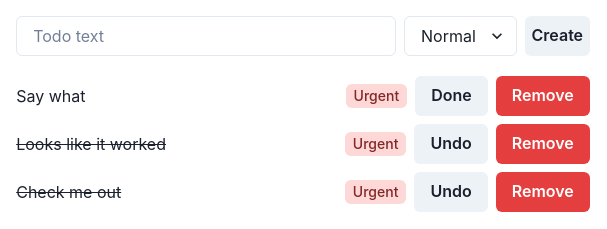
Test: Index page › should delete a todo when click on Remove
The width and height of the screenshot is (607, 229).
Click the button "Remove" in the row of "Say what".
click(543, 96)  # box [496, 76, 590, 116]
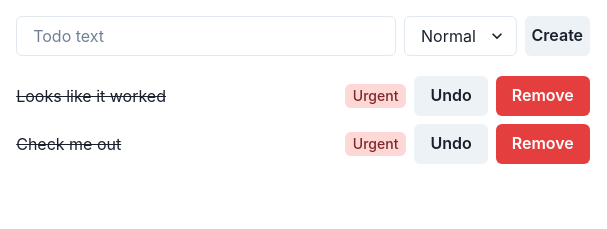
Now the text "Say what" is gone
